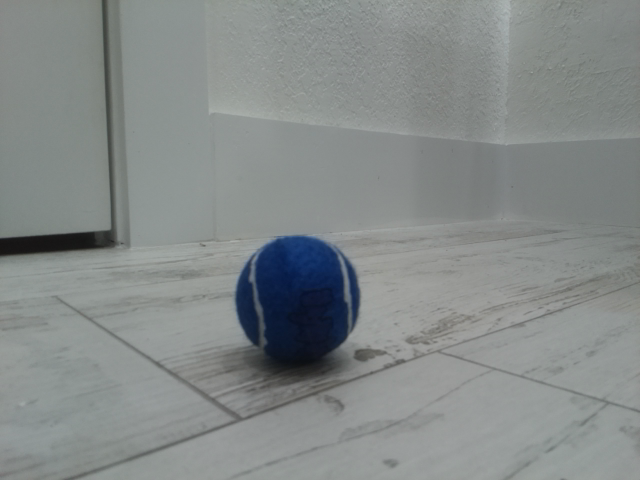blue-ball: (234, 234, 361, 365)
